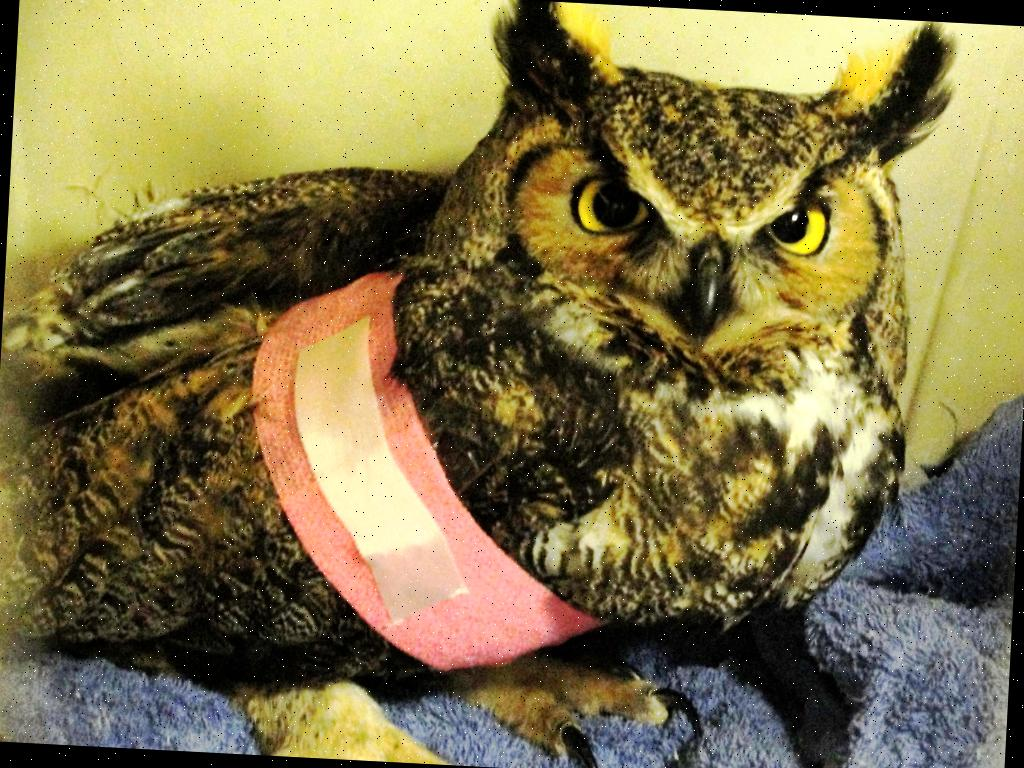Owl: (0, 0, 978, 724)
